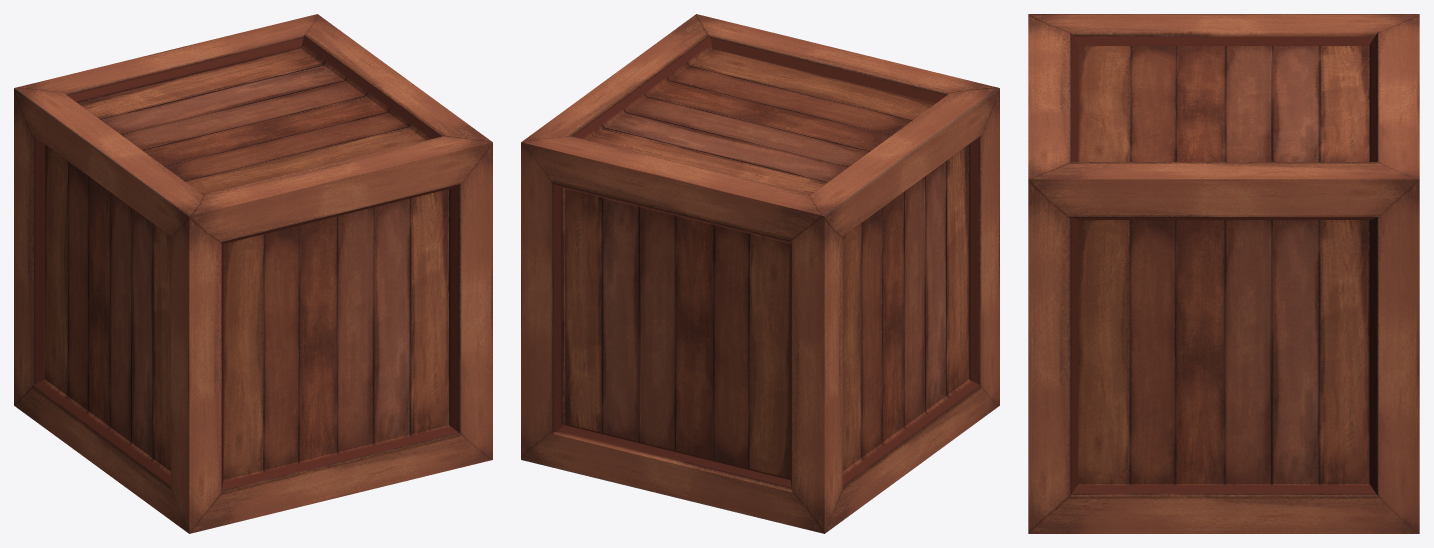
3 views of the same model, side by side, from view 1: azimuth 30°, elevation 25°; view 2: azimuth 150°, elevation 25°; view 3: azimuth 270°, elevation 25° (orthographic). The views are drawn at different scales.
Visible parts, largest first — view 1: pasted__pasted__pCube3; view 2: pasted__pasted__pCube3; view 3: pasted__pasted__pCube3.
Part boxes in pixels (x1,y1,x2,y2): pasted__pasted__pCube3: [14, 14, 492, 533]; pasted__pasted__pCube3: [521, 14, 999, 533]; pasted__pasted__pCube3: [1028, 14, 1419, 533].
Size of the model in its own units: 100 by 100 by 100.
Materials: 1 (1 with a texture image).
